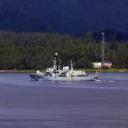Fragata: (29, 53, 100, 83)
